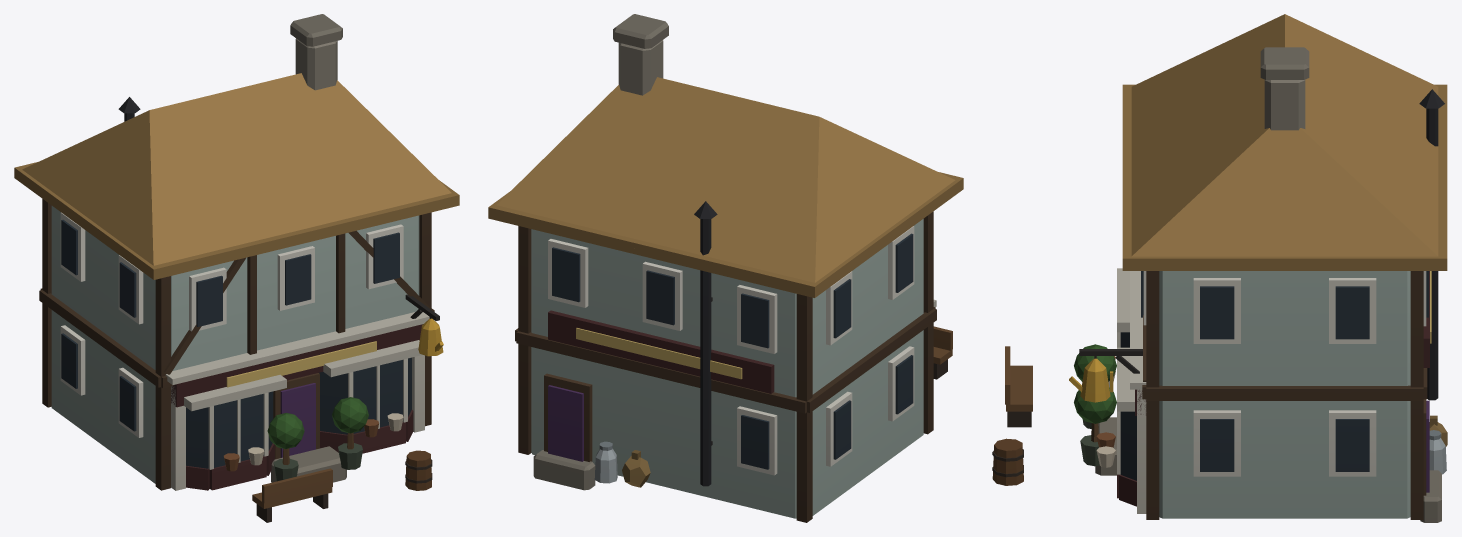
The model's file is coffeehouse.glb.
The picture shows the model from 3 angles, left to right: view 1: azimuth 30°, elevation 25°; view 2: azimuth 150°, elevation 25°; view 3: azimuth 270°, elevation 25°; orthographic projection. The views are drawn at different scales.
Parts seen in each view (by area): view 1: coffeehouse_model; view 2: coffeehouse_model; view 3: coffeehouse_model.
Part boxes in pixels (left/top/right/bottom): coffeehouse_model: left=14, top=14, right=459, bottom=522; coffeehouse_model: left=488, top=14, right=963, bottom=522; coffeehouse_model: left=992, top=14, right=1447, bottom=522.
Bounding box in the file's own units: 0.76 × 0.9108 × 0.8404.
